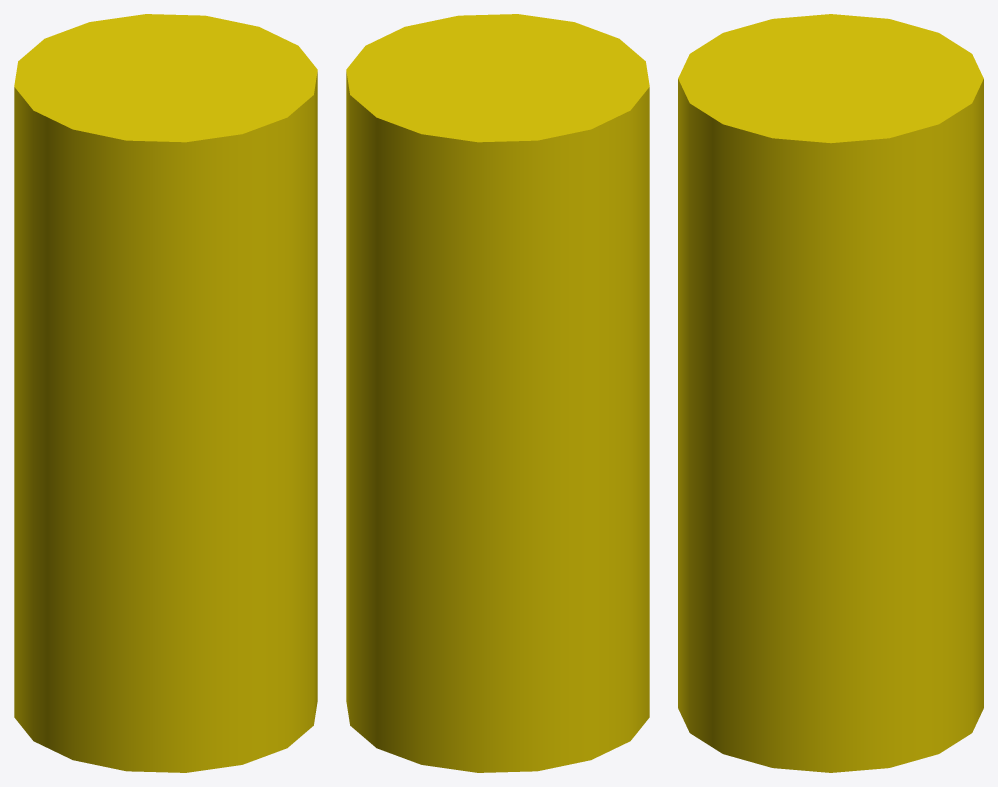
File: pipeInside.fbx
3 renders of one model, left to right at view 1: azimuth 30°, elevation 25°; view 2: azimuth 150°, elevation 25°; view 3: azimuth 270°, elevation 25°, orthographic.
Parts seen in each view (by area): view 1: PerusPutkiSisä; view 2: PerusPutkiSisä; view 3: PerusPutkiSisä.
Boxes of the visible parts, left/top/right/bottom form: PerusPutkiSisä: left=14, top=14, right=317, bottom=772; PerusPutkiSisä: left=346, top=14, right=649, bottom=772; PerusPutkiSisä: left=678, top=14, right=983, bottom=772.
Size of the model in its own units: 44 by 100 by 44.
